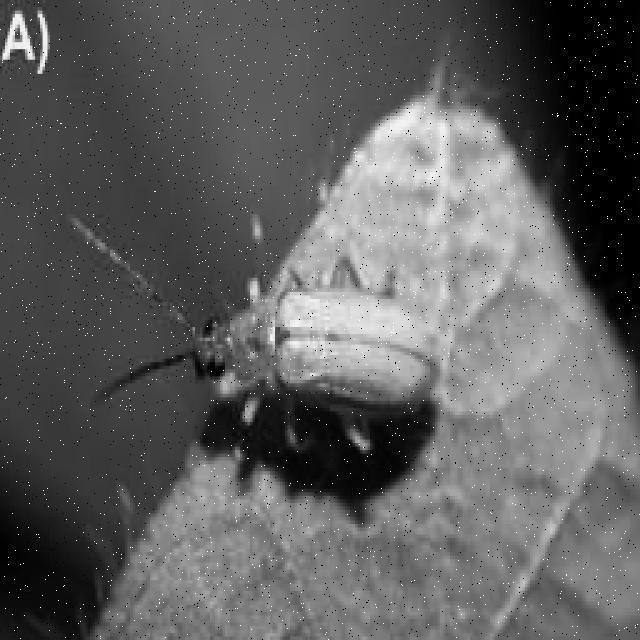gusano_gris: (66, 204, 440, 474)
